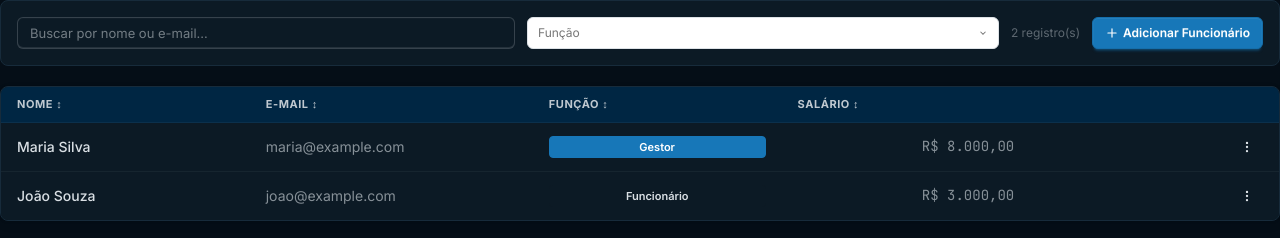
filters by role using MultiSelect
The width and height of the screenshot is (1280, 238).
Click the button "Função". click: (559, 32)
box: left=527, top=17, right=999, bottom=49
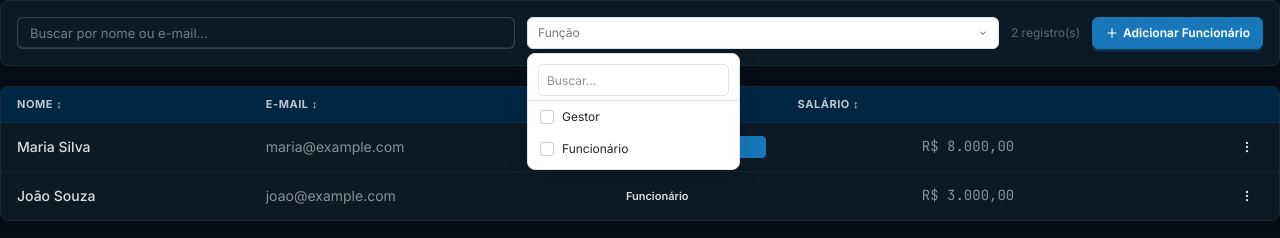
Click the text "Gestor". click: (570, 116)
box: left=540, top=109, right=600, bottom=124
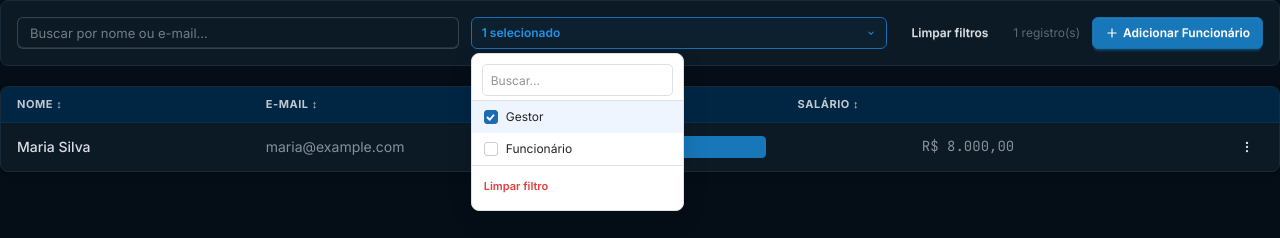
Expected: the text "Maria Silva" is shown, left=17, top=138, right=91, bottom=155
Now the button "João Souza" is gone
